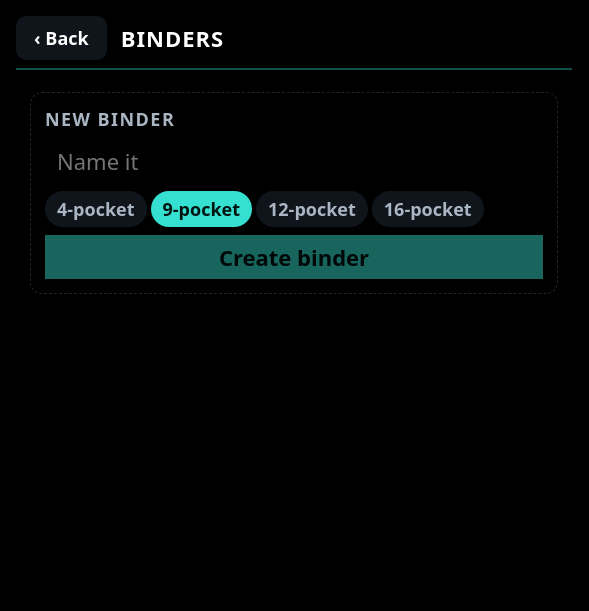
Test case: WebBindersScreen › creates a binder and shows it in the list
The width and height of the screenshot is (589, 611).
In the field named "Binder name": (294, 161) x1=45 y1=139 x2=543 y2=183, type "Master set"
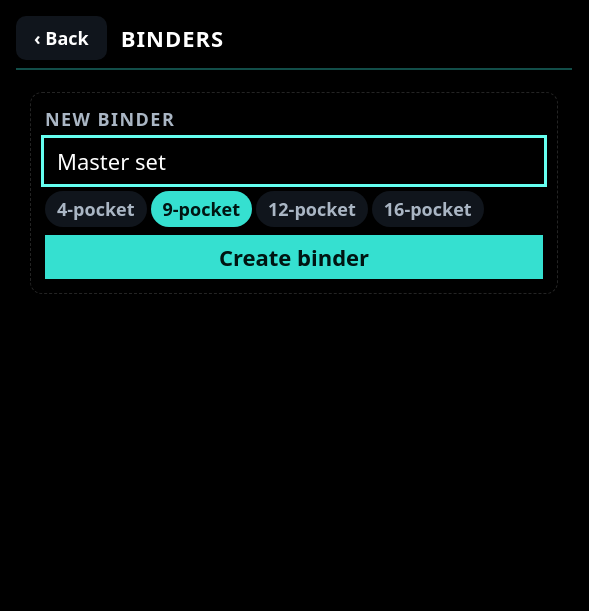
Click the button "Create binder": click(294, 257) x1=45 y1=235 x2=543 y2=279
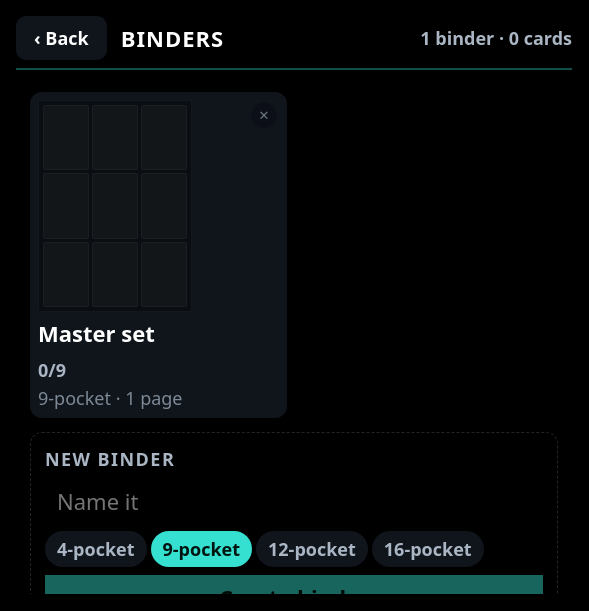
Expected: the text "Master set" is shown, x1=38 y1=320 x2=155 y2=348
